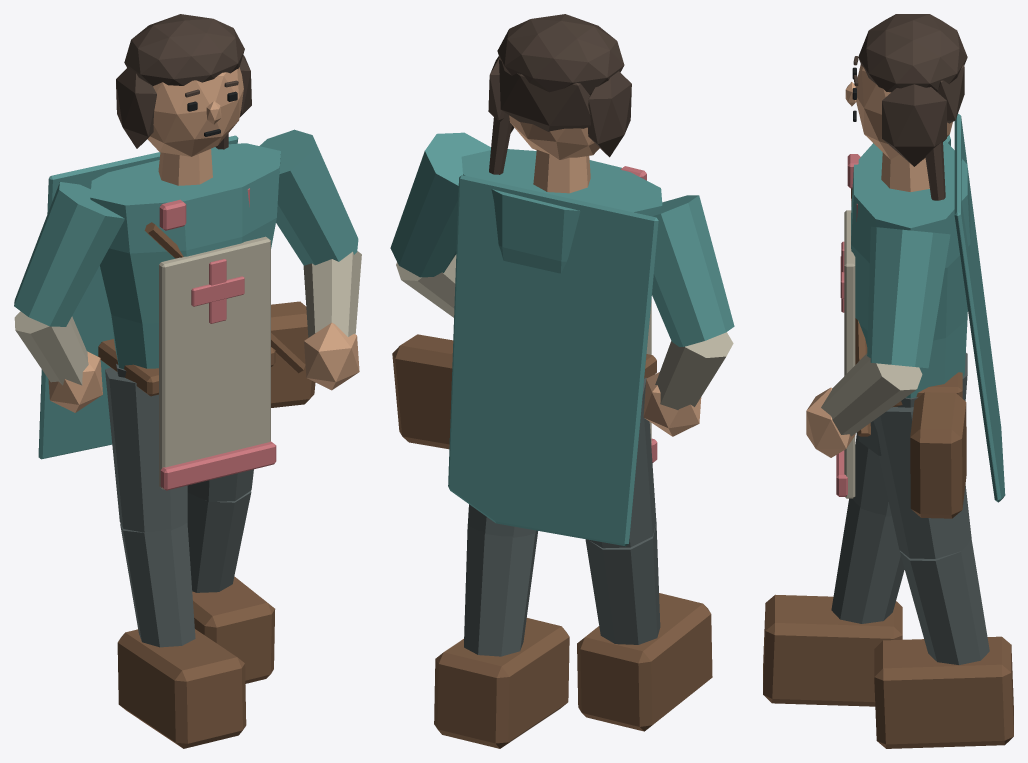
The model's file is npc_healer_step_l_v01.glb.
The picture shows the model from 3 angles, left to right: view 1: azimuth 30°, elevation 25°; view 2: azimuth 150°, elevation 25°; view 3: azimuth 270°, elevation 25°; orthographic projection. The views are drawn at different scales.
Visible parts, largest first — view 1: GEO_npc_healer_step_l_v01; view 2: GEO_npc_healer_step_l_v01; view 3: GEO_npc_healer_step_l_v01.
Part boxes in pixels (left/top/right/bottom): GEO_npc_healer_step_l_v01: left=14, top=14, right=361, bottom=748; GEO_npc_healer_step_l_v01: left=390, top=14, right=734, bottom=748; GEO_npc_healer_step_l_v01: left=763, top=14, right=1013, bottom=748.
Size of the model in its own units: 1.06 by 2.07 by 0.677.
